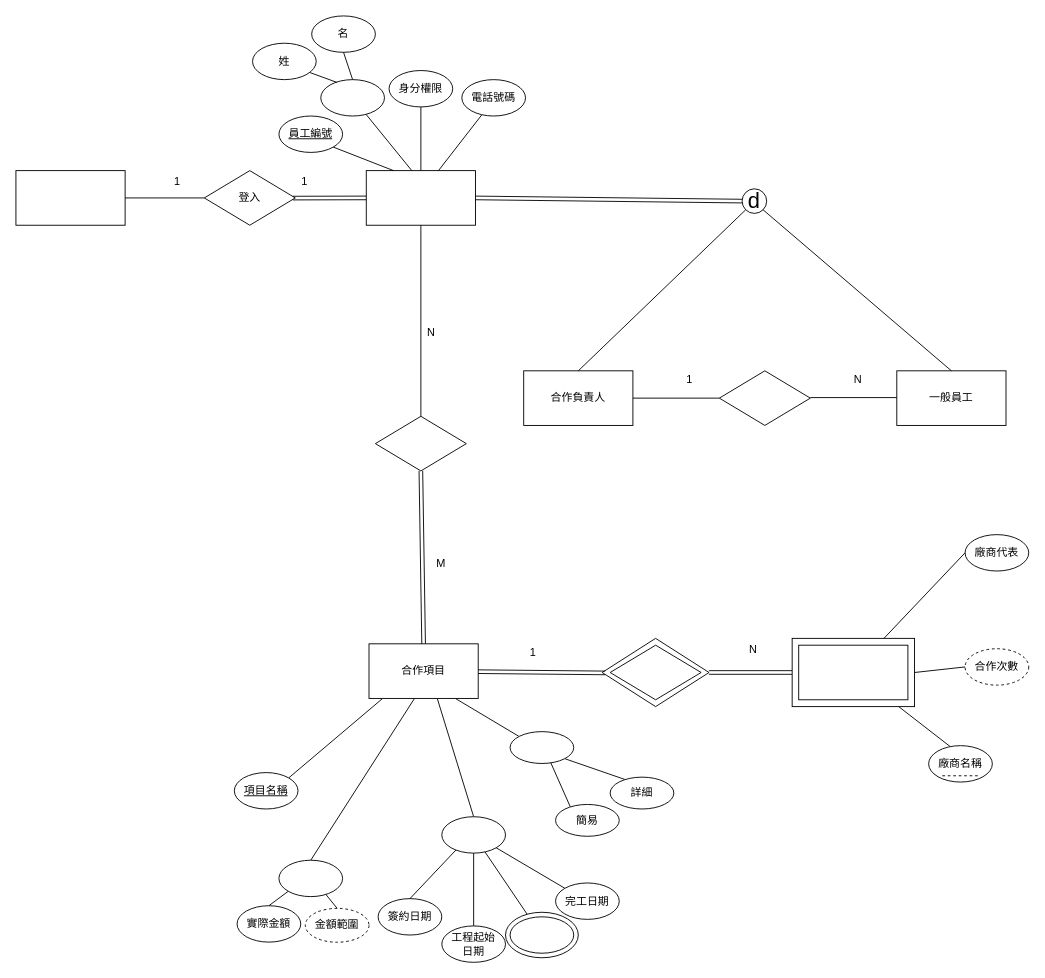
Image size: 1045x978. Some labels were removed from this diagram. The shapes that lost their labels are listed below. From the top down, each one's box as (x1, y1, x2, y2) in pixels, then its label:
(320, 79, 384, 116): 姓名
(15, 170, 125, 225): 使用者
(365, 170, 475, 225): 員工帳戶
(718, 370, 810, 425): 帶領
(374, 415, 466, 471): 處理
(609, 644, 701, 700): 合作
(798, 644, 908, 700): 廠商
(509, 731, 574, 763): 項目內容
(441, 816, 506, 853): 日期
(278, 859, 343, 897): 金額
(509, 916, 574, 953): 檢測日期
